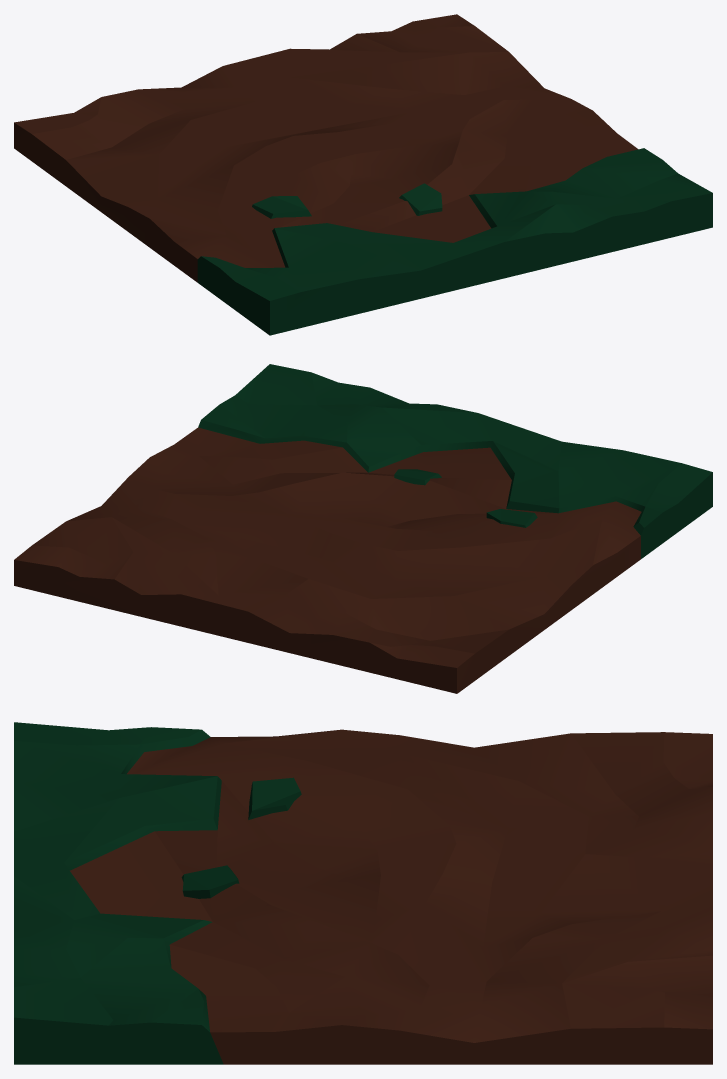
The model's file is Ground_Edge_B.fbx.
The picture shows the model from 3 angles, top to bottom: view 1: azimuth 30°, elevation 25°; view 2: azimuth 150°, elevation 25°; view 3: azimuth 270°, elevation 25°; orthographic projection. The views are drawn at different scales.
Visible parts, largest first — view 1: Ground_Edge_B; view 2: Ground_Edge_B; view 3: Ground_Edge_B.
Boxes of the visible parts, x1,y1,x2,y2 form: Ground_Edge_B: [14, 14, 712, 335]; Ground_Edge_B: [14, 364, 712, 693]; Ground_Edge_B: [14, 722, 712, 1064].
Bounding box in the file's own units: 147 × 12.67 × 147.
